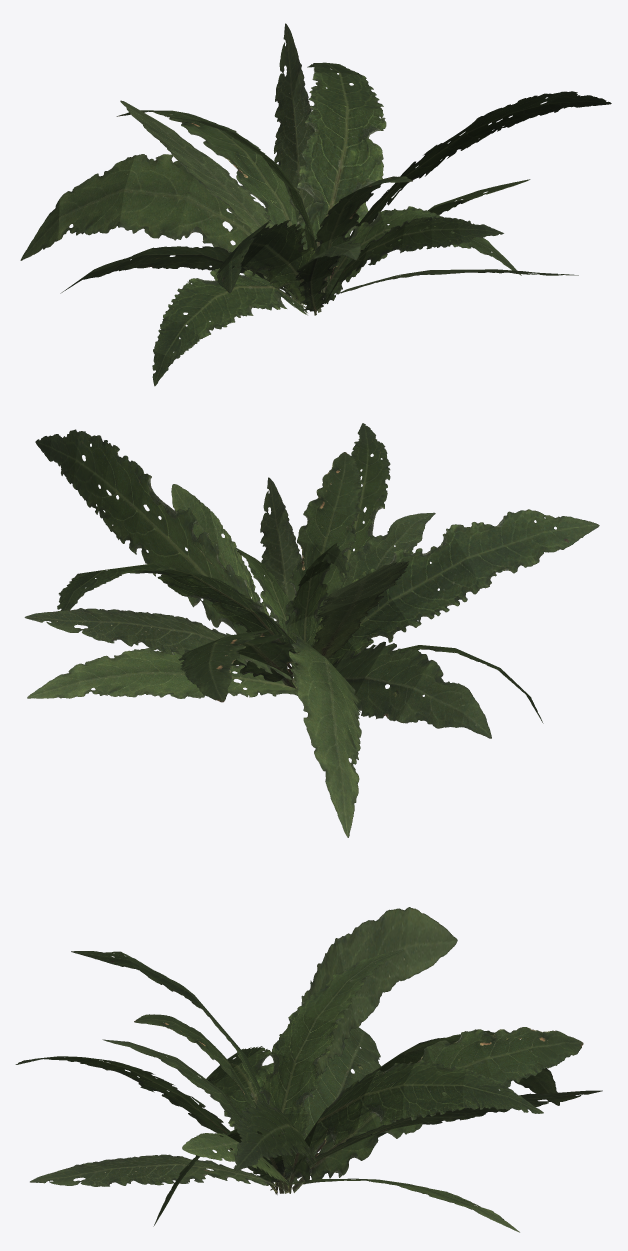
File: s3dplants_swordfern06.gltf
3 renders of one model, top to bottom at view 1: azimuth 30°, elevation 25°; view 2: azimuth 150°, elevation 25°; view 3: azimuth 270°, elevation 25°, orthographic. The views are drawn at different scales.
Visible parts, largest first — view 1: S3DPlants_swordfern06:1; view 2: S3DPlants_swordfern06:1; view 3: S3DPlants_swordfern06:1.
Boxes of the visible parts, x1,y1,x2,y2 form: S3DPlants_swordfern06:1: (20,23,611,386); S3DPlants_swordfern06:1: (24,423,599,837); S3DPlants_swordfern06:1: (15,907,602,1232).
Size of the model in its own units: 1.15 by 0.493 by 1.09.
Materials: 1 (1 with a texture image).
